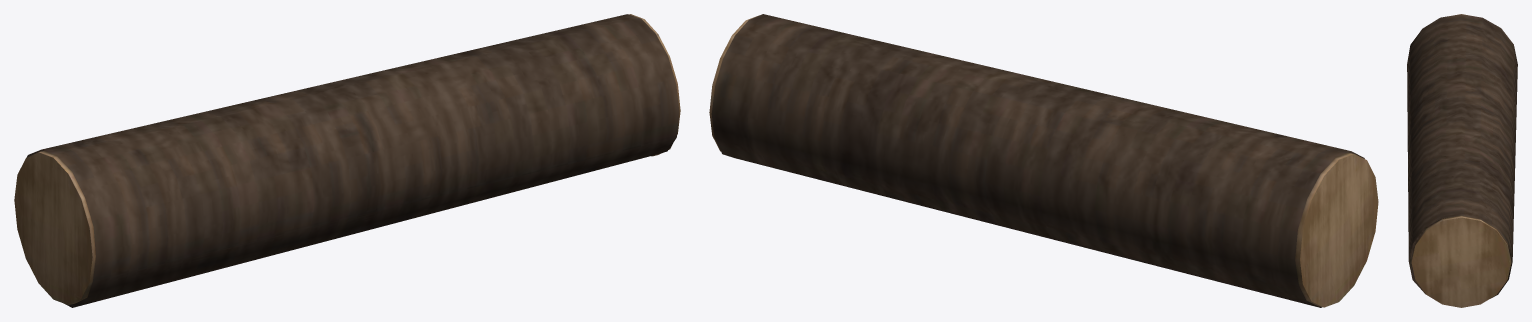
File: log.glb
3 renders of one model, left to right at view 1: azimuth 30°, elevation 25°; view 2: azimuth 150°, elevation 25°; view 3: azimuth 270°, elevation 25°, orthographic. The views are drawn at different scales.
Parts seen in each view (by area): view 1: log; view 2: log; view 3: log.
Boxes of the visible parts, left/top/right/bottom form: log: left=14, top=14, right=680, bottom=307; log: left=709, top=14, right=1378, bottom=307; log: left=1407, top=14, right=1517, bottom=307.
Size of the model in its own units: 2.22 by 0.518 by 0.5216.
Materials: 1 (1 with a texture image).
